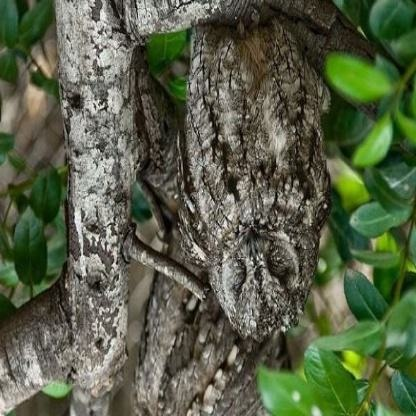Owl: (183, 22, 326, 331)
